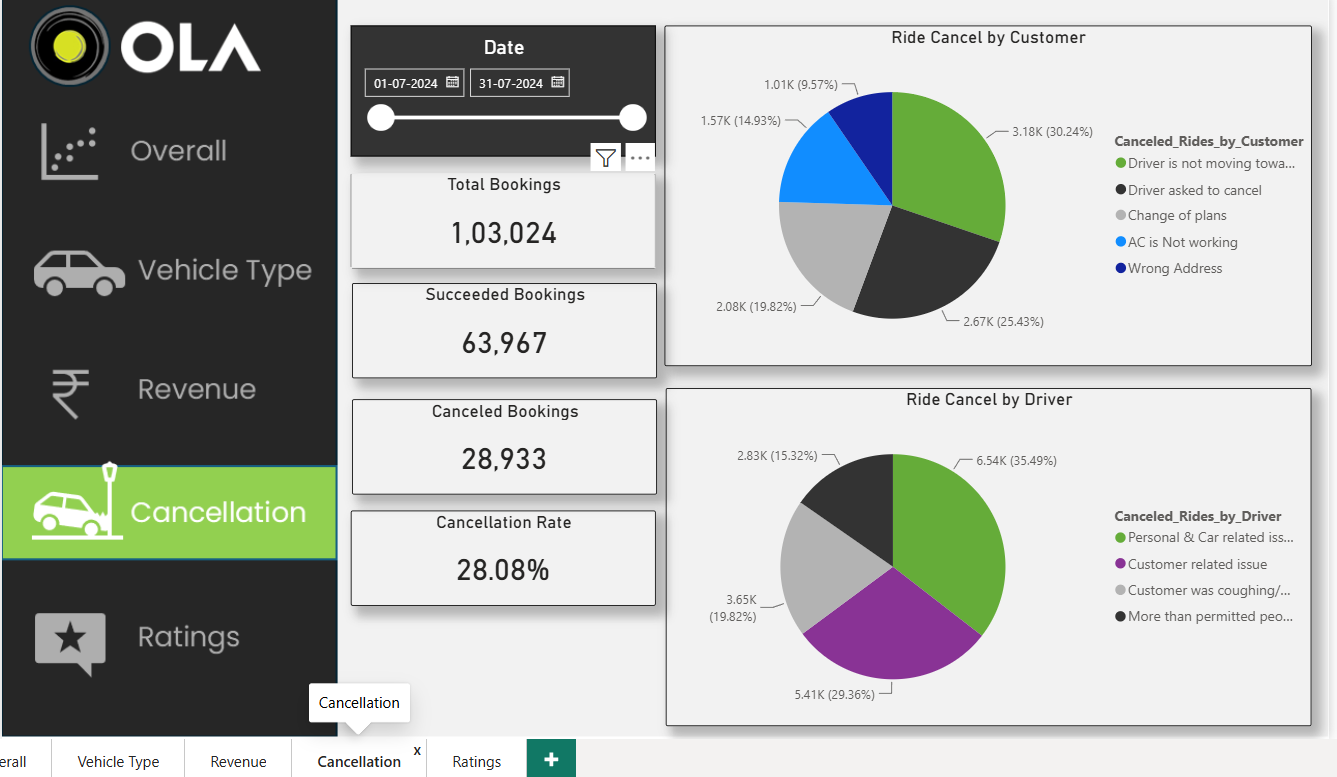

What the dashboard file says about the page in this screenshot:
{"tool":"powerbi","page":{"name":"Cancellation","canvas":[1280,720],"ordinal":3},"visuals":[{"type":"actionButton","box":[0,337.2,324.4,87.2],"z":0},{"type":"actionButton","box":[0,109,324.4,87.2],"z":1000},{"type":"actionButton","box":[0,219.2,324.4,91],"z":2000},{"type":"actionButton","box":[0,579.5,324.4,87.2],"z":3000},{"type":"slicer","title":"                   Date","fields":{"Values":["Bookings-100000-Rows.Date"]},"box":[336.7,31.1,294.4,126.7],"z":4000},{"type":"pieChart","title":"Ride Cancel by Customer","fields":{"Category":["Bookings-100000-Rows.Canceled_Rides_by_Customer"],"Series":["Bookings-100000-Rows.Canceled_Rides_by_Customer"],"Y":["CountNonNull(Bookings-100000-Rows.Canceled_Rides_by_Customer)"]},"box":[640,31.1,624.4,328.9],"z":5000},{"type":"pieChart","title":"Ride Cancel by Driver","fields":{"Series":["Bookings-100000-Rows.Canceled_Rides_by_Driver"],"Y":["CountNonNull(Bookings-100000-Rows.Booking_ID)"],"Category":["Bookings-100000-Rows.Canceled_Rides_by_Driver"]},"box":[641.1,381.1,623.3,326.7],"z":6000},{"type":"card","title":"Total Bookings ","fields":{"Values":["CountNonNull(Bookings-100000-Rows.Booking_ID)"]},"box":[336.7,173.3,294.4,92.2],"z":6001},{"type":"card","title":"Succeeded Bookings","fields":{"Values":["CountNonNull(Bookings-100000-Rows.Booking_ID)"]},"box":[337.8,280,294.4,92.2],"z":6002},{"type":"card","title":"Cancellation Rate","fields":{"Values":["Bookings-100000-Rows.CancellationRate"]},"box":[336.7,498.9,294.4,92.2],"z":6003},{"type":"card","title":"Canceled Bookings","fields":{"Values":["CountNonNull(Bookings-100000-Rows.Booking_ID)"]},"box":[337.8,392.2,294.4,92.2],"z":6004}]}

Visuals, with their boxes on the page's 1280x720 design canvas (x1, y1, x2, y2). These are canvas units, not pixel positions in the 1337x777 screenshot, which may show the page scaled, cropped or inside an application window:
actionButton: [0,337,324,424]
actionButton: [0,109,324,196]
actionButton: [0,219,324,310]
actionButton: [0,580,324,667]
"                   Date" slicer: [337,31,631,158]
"Ride Cancel by Customer" pieChart: [640,31,1264,360]
"Ride Cancel by Driver" pieChart: [641,381,1264,708]
"Total Bookings " card: [337,173,631,266]
"Succeeded Bookings" card: [338,280,632,372]
"Cancellation Rate" card: [337,499,631,591]
"Canceled Bookings" card: [338,392,632,484]
